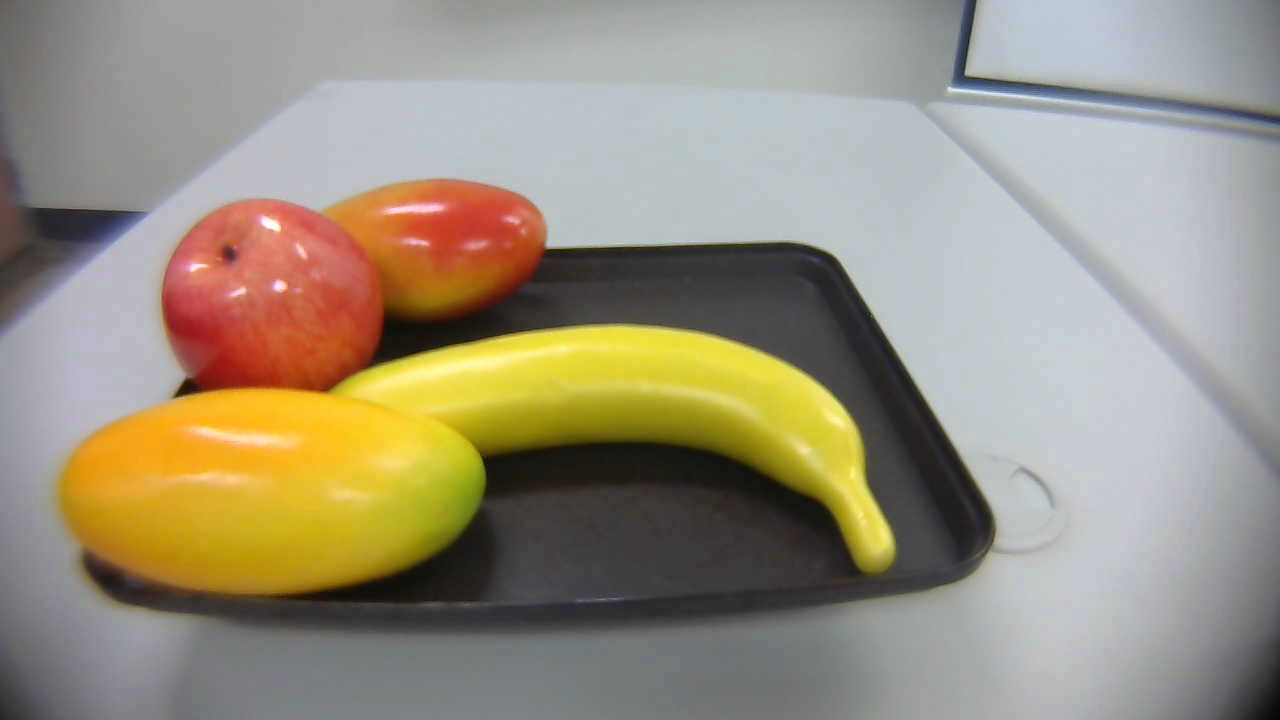banana: (315, 318, 897, 581)
red apple: (155, 189, 388, 411)
red mango: (297, 171, 560, 339)
yellow mango: (58, 383, 483, 598)
